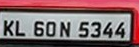0: (46, 20, 57, 38)
3: (90, 21, 102, 38)
4: (103, 20, 115, 39), (115, 20, 127, 39)
5: (78, 21, 90, 38)
6: (34, 21, 46, 37)
K: (3, 19, 14, 36)
L: (14, 20, 27, 37)
N: (59, 21, 72, 39)
